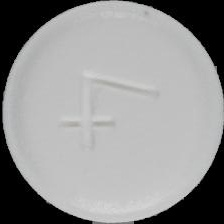63629-4014: (0, 0, 224, 224)
